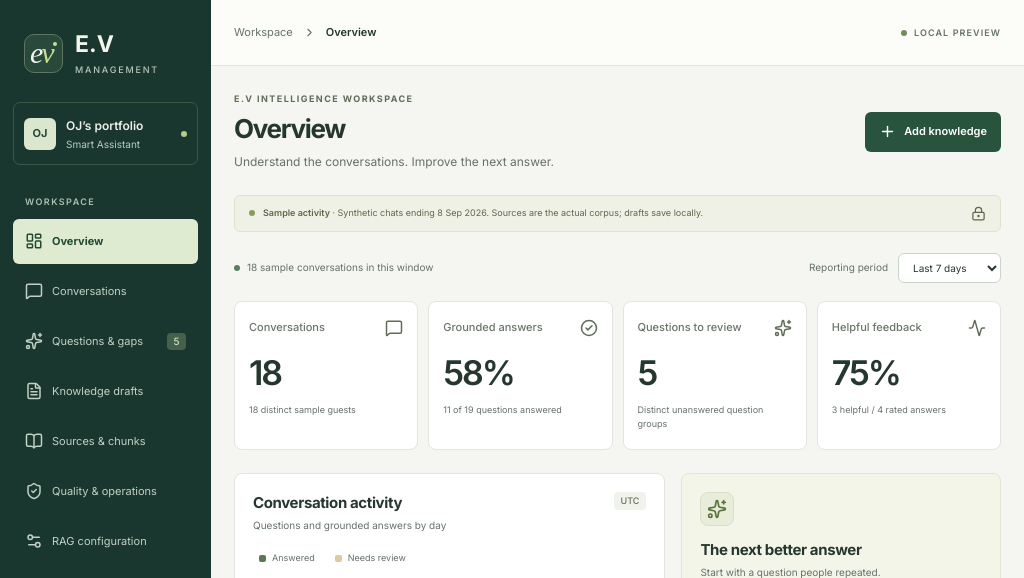
Scenario: is the seventh section of the workspace and opens from the navigation
Click the button "RAG configuration" at [106, 541], box [13,519,198,564]
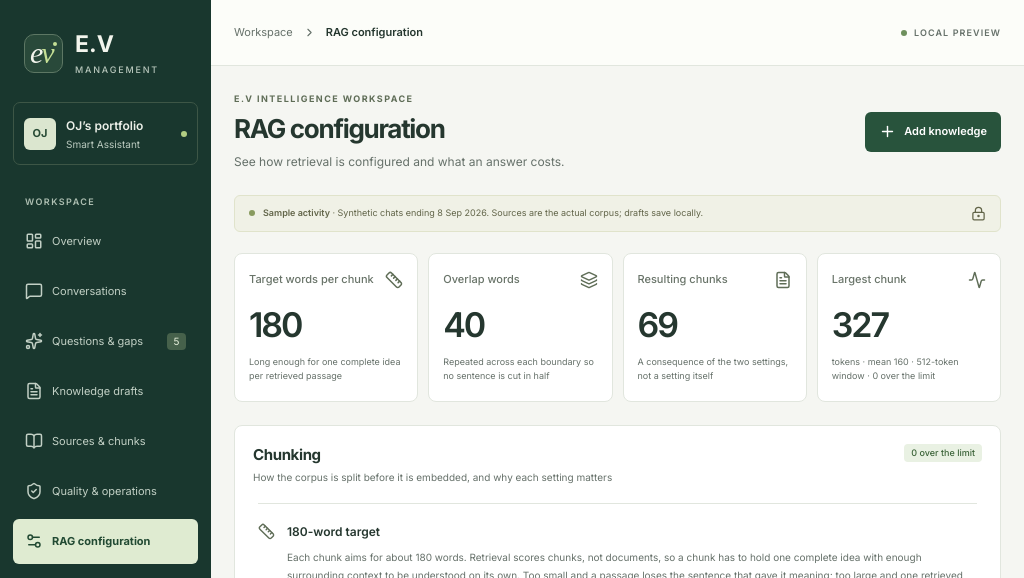
Now the heading "RAG configuration" is shown, box [234,113,445,144]
Now the text "See how retrieval is configured and what an answer costs." is shown, box [234,153,564,172]
Now the heading "Chunking" is shown, box [253,445,321,464]
Click the button "Sources & chunks" at [106, 441], box [13,419,198,464]
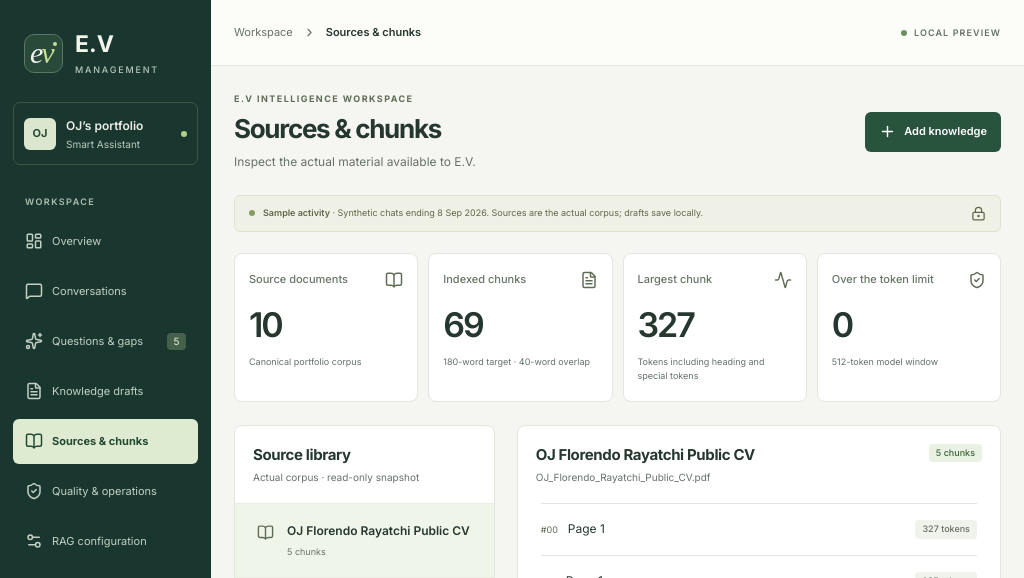
Now the heading "Source library" is shown, box [253,445,351,464]
